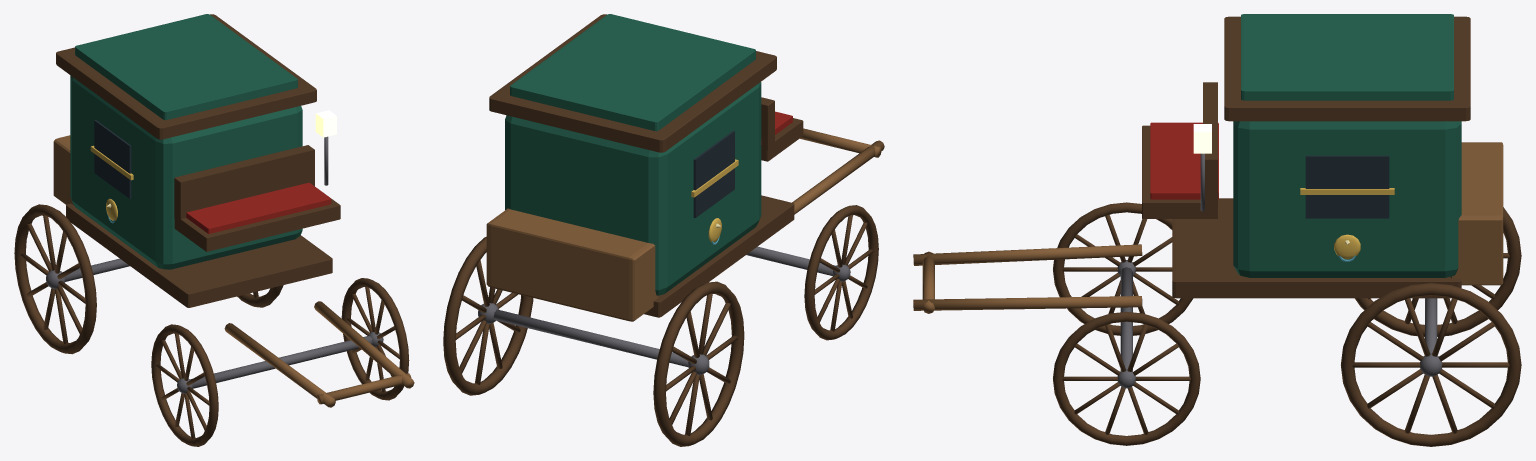
The model's file is kutsche.glb.
The picture shows the model from 3 angles, left to right: view 1: azimuth 30°, elevation 25°; view 2: azimuth 150°, elevation 25°; view 3: azimuth 270°, elevation 25°; orthographic projection. The views are drawn at different scales.
Visible parts, largest first — view 1: Torus; view 2: Torus; view 3: Torus.
Part boxes in pixels (x1,y1,x2,y2): Torus: (14, 14, 414, 446); Torus: (443, 14, 884, 446); Torus: (913, 14, 1521, 446).
Size of the model in its own units: 1.85 by 2.46 by 4.
